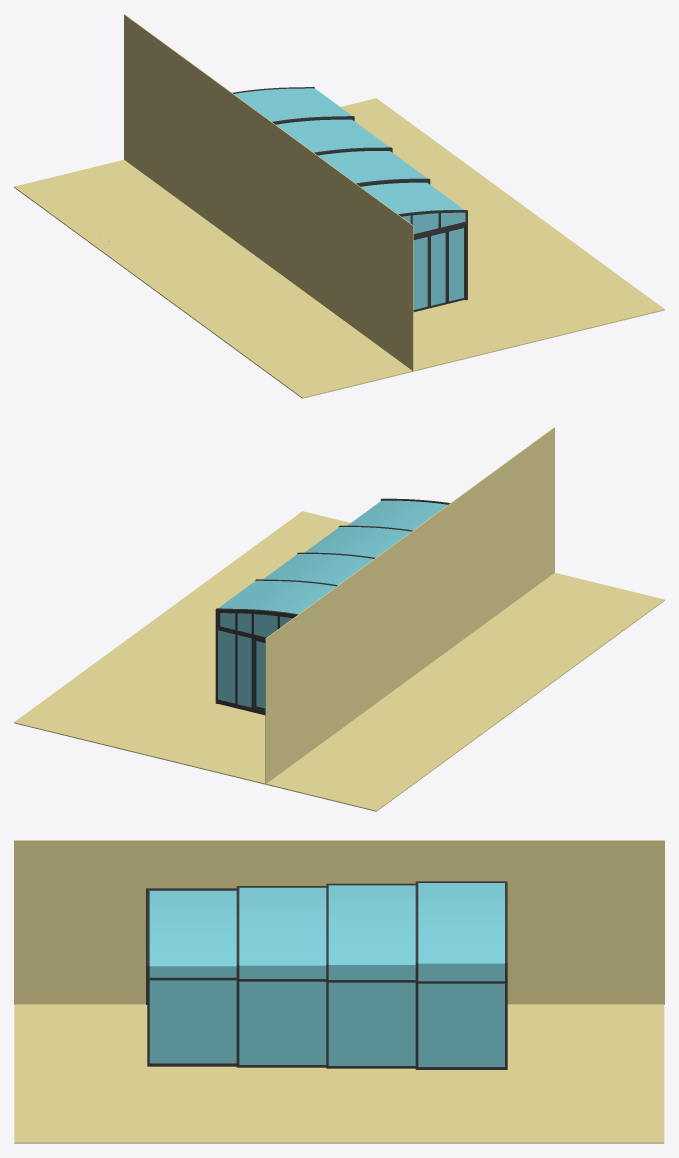
The model's file is Andromeda.glb.
3 views of the same model, one above another, from view 1: azimuth 30°, elevation 25°; view 2: azimuth 150°, elevation 25°; view 3: azimuth 270°, elevation 25° (orthographic). The views are drawn at different scales.
Parts seen in each view (by area): view 1: Box137, Box079, Line051, Line049, Line046, Line044, Box131, Box132, Box133, Line041; view 2: Box137, Box079, Line051, Box125, Line049, Line046, Line044, Line054, Rectangle001, Line053; view 3: Box137, Box079, Line051, Line049, Line046, Line044, Line052, Line047, Line053, Line048.
Boxes of the visible parts, left/top/right/bottom form: Box137: left=14, top=98, right=664, bottom=398; Box079: left=124, top=14, right=413, bottom=371; Line051: left=234, top=88, right=351, bottom=121; Line049: left=276, top=119, right=389, bottom=152; Line046: left=318, top=151, right=427, bottom=183; Line044: left=361, top=182, right=463, bottom=214; Box131: left=449, top=228, right=463, bottom=301; Box132: left=431, top=232, right=445, bottom=305; Box133: left=413, top=237, right=427, bottom=309; Line041: left=401, top=212, right=465, bottom=233; Box137: left=14, top=511, right=664, bottom=811; Box079: left=265, top=427, right=554, bottom=784; Line051: left=218, top=580, right=336, bottom=614; Box125: left=218, top=630, right=251, bottom=707; Line049: left=263, top=554, right=373, bottom=584; Line046: left=305, top=527, right=410, bottom=557; Line044: left=348, top=500, right=447, bottom=530; Line054: left=220, top=613, right=292, bottom=637; Rectangle001: left=254, top=639, right=265, bottom=710; Line053: left=215, top=608, right=297, bottom=703; Box137: left=14, top=1004, right=664, bottom=1143; Box079: left=14, top=840, right=664, bottom=1004; Line051: left=418, top=883, right=504, bottom=1066; Line049: left=328, top=885, right=415, bottom=1065; Line046: left=239, top=887, right=326, bottom=1064; Line044: left=149, top=890, right=236, bottom=1063; Line052: left=415, top=882, right=418, bottom=1069; Line047: left=236, top=887, right=239, bottom=1067; Line053: left=505, top=882, right=507, bottom=1069; Line048: left=326, top=884, right=328, bottom=1068.
Size of the model in its own units: 1103 by 465 by 1523.
